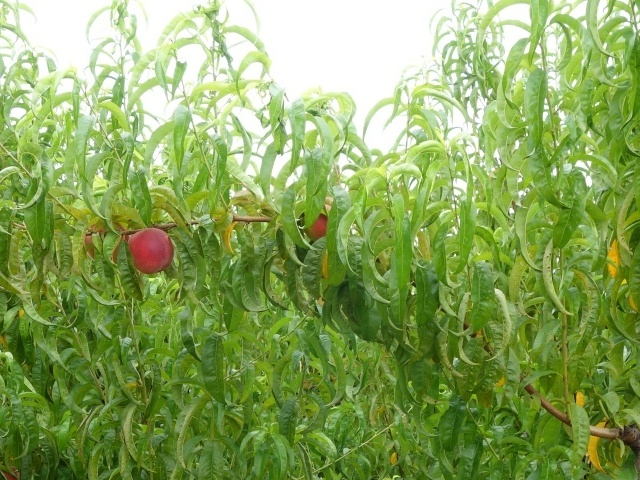peach: (125, 225, 176, 277), (80, 218, 133, 263), (302, 193, 337, 244)
